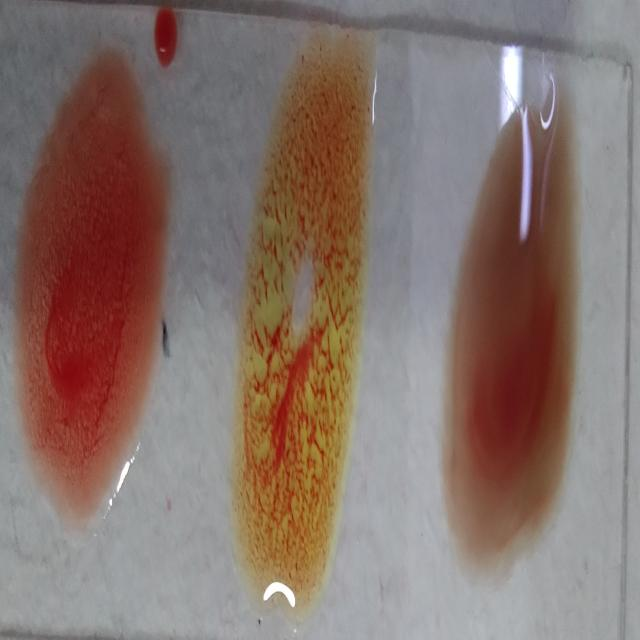B: (246, 38, 357, 605)
D: (20, 66, 165, 540)
